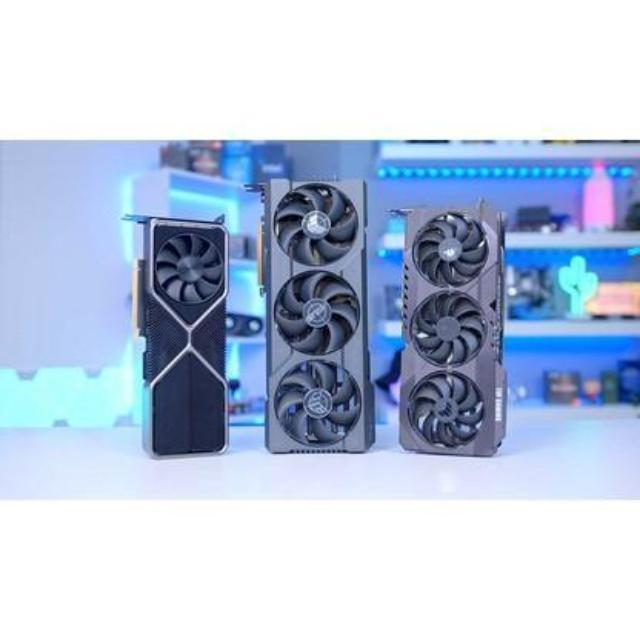GPU: (250, 178, 387, 462), (393, 200, 510, 460), (130, 208, 233, 470)
